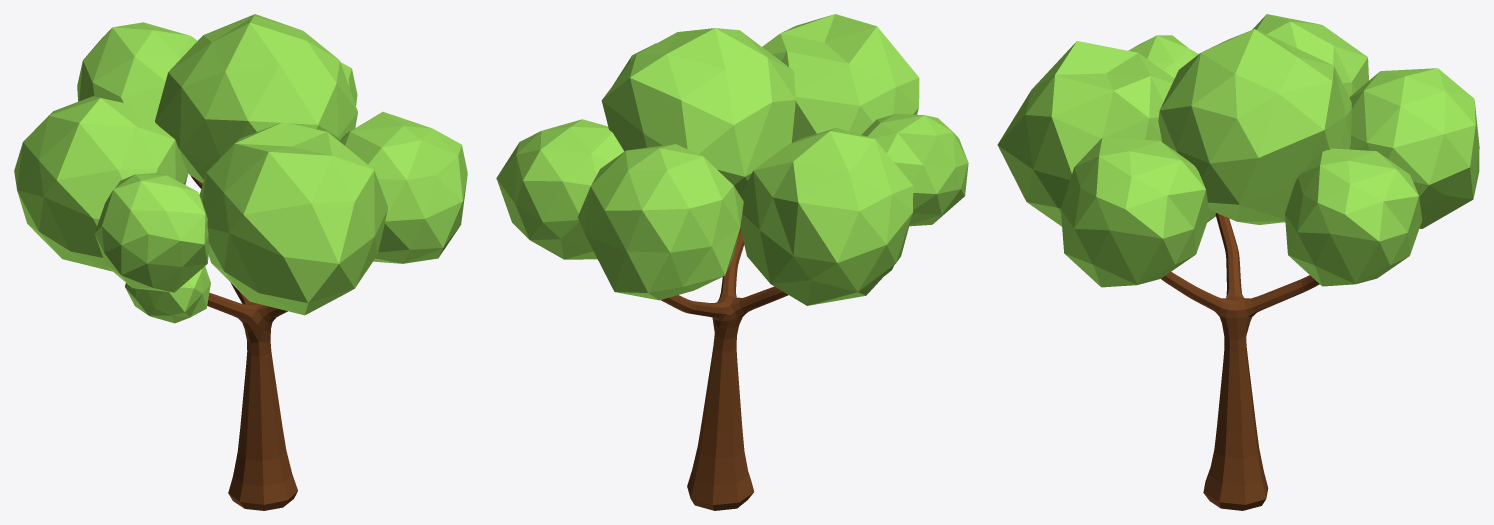
File: Laubbaum2.fbx
The picture shows the model from 3 angles, left to right: view 1: azimuth 30°, elevation 25°; view 2: azimuth 150°, elevation 25°; view 3: azimuth 270°, elevation 25°; orthographic projection. The views are drawn at different scales.
Parts seen in each view (by area): view 1: Icosphere.001, Plane; view 2: Icosphere.001, Plane; view 3: Icosphere.001, Plane.
Part boxes in pixels (box(x1,y1,x2,y2)): Icosphere.001: box(14, 14, 467, 323); Plane: box(190, 175, 297, 510); Icosphere.001: box(496, 14, 968, 305); Plane: box(661, 228, 788, 510); Icosphere.001: box(997, 14, 1479, 287); Plane: box(1161, 213, 1319, 510).
Bounding box in the file's own units: 794 × 1018 × 944.
